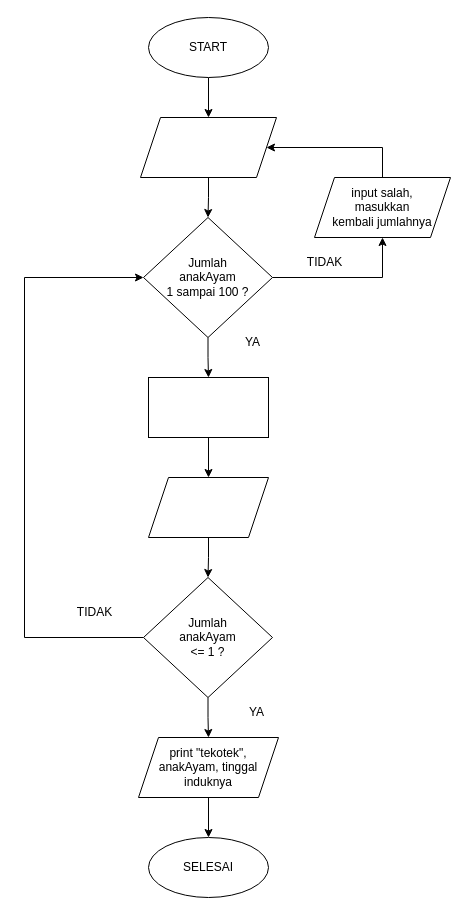
This 468x915 diagram has some shape labels left out. The centre of each missing label's shape, as x and y in pixels:
anakAyam = anakAyam - 1: (x=208, y=407)
anakAyam = input jumlah anak ayam: (x=208, y=147)
print "tekotek" & anakAyam: (x=208, y=507)
